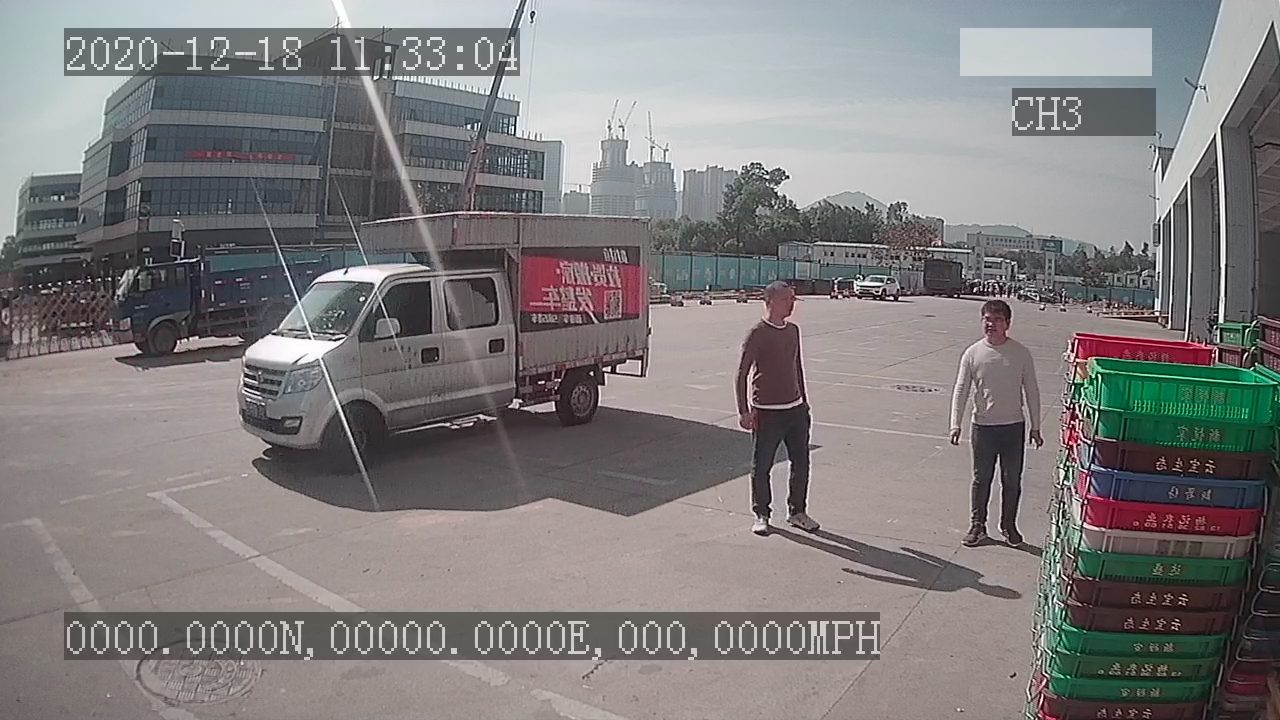person: (729, 276, 824, 538), (949, 295, 1044, 549)
